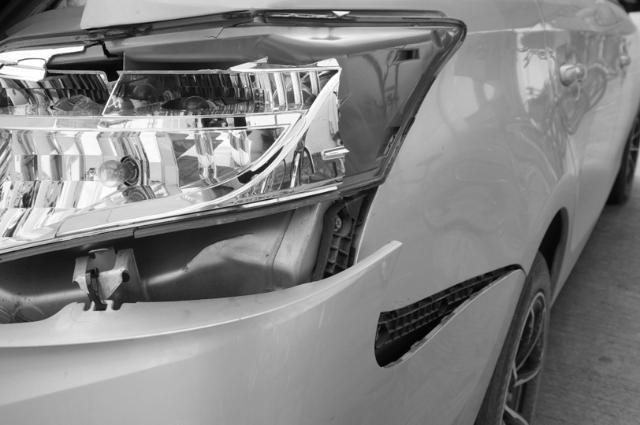Bumper: (0, 233, 509, 425)
Light: (0, 24, 428, 222)
